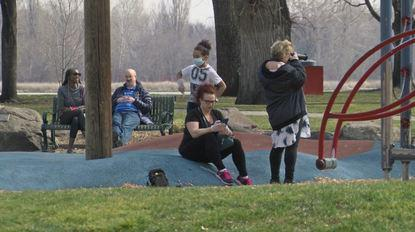Person: (178, 85, 256, 186), (259, 38, 309, 185), (176, 37, 227, 110), (111, 67, 152, 149), (54, 69, 86, 154)
